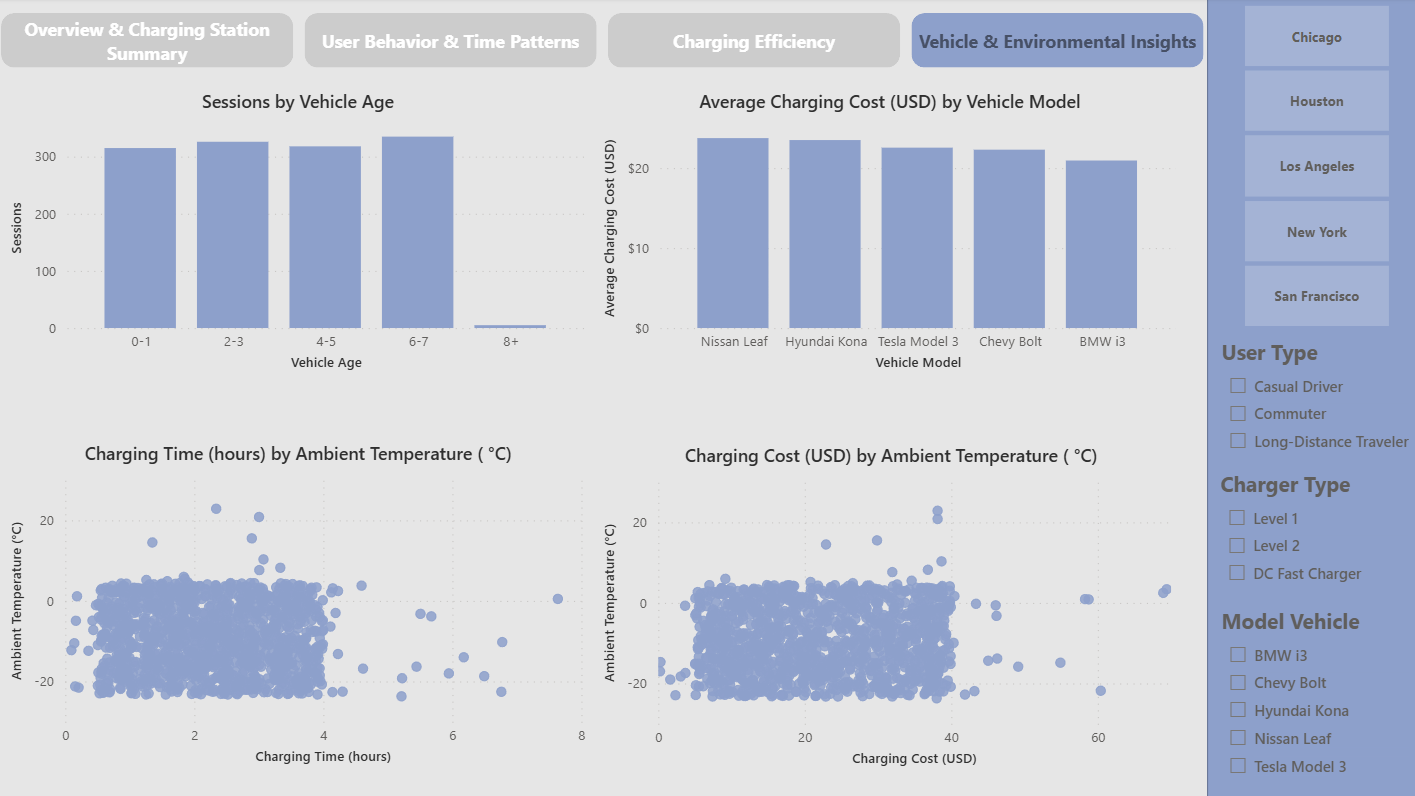

The page's visual inventory and layout, read from the dashboard file:
{"tool":"powerbi","page":{"name":"Vehicle & Environmental Insights","canvas":[1280,720],"ordinal":3},"visuals":[{"type":"shape","box":[1085.4,0,194.3,720],"z":1000},{"type":"slicer","fields":{"Values":["EV Charging.Charging Station Location"]},"box":[1093.4,0,179.1,300.9],"z":2000},{"type":"slicer","title":"Model Vehicle","fields":{"Values":["EV Charging.Vehicle Model"]},"box":[1093.3,546.2,178.4,164.5],"z":3000},{"type":"slicer","title":"User Type","fields":{"Values":["EV Charging.User Type"]},"box":[1093.3,305,178.4,110],"z":4000},{"type":"slicer","title":"Charger Type","fields":{"Values":["EV Charging.Charger Type"]},"box":[1092.5,422.7,178.2,115.5],"z":5000},{"type":"clusteredColumnChart","title":"Sessions by Vehicle Age","fields":{"Y":["Metrics.Sessions Count"],"Category":["EV Charging.Vehicle Age Bins"]},"box":[8.1,81.6,525.3,257.3],"z":6000},{"type":"scatterChart","title":"Charging Time (hours) by Ambient Temperature ( °C)","fields":{"Y":["EV Charging.Temperature (°C)"],"X":["Sum(EV Charging.Charging Duration (hours))"]},"box":[8.1,396.7,525.7,294.6],"z":7000},{"type":"clusteredColumnChart","title":"Average Charging Cost (USD) by Vehicle Model","fields":{"Y":["Metrics.Average Charging Cost (USD)"],"Category":["EV Charging.Vehicle Model"]},"box":[539.6,81.6,523.5,257.3],"z":8000},{"type":"scatterChart","title":"Charging Cost (USD) by Ambient Temperature ( °C)","fields":{"Y":["EV Charging.Temperature (°C)"],"X":["EV Charging.Charging Cost (USD)"]},"box":[540,398.5,525.7,294.6],"z":9000},{"type":"pageNavigator","box":[4.5,13.4,1079.1,49.3],"z":9001}]}

Visuals, with their boxes in screenshot pixels (x1, y1, x2, y2), scaled from the page's 1280x720 canvas onto the 1415x796 screenshot:
shape: 1200, 0, 1414, 795
slicer - EV Charging.Charging Station Location: 1209, 0, 1407, 333
"Model Vehicle" slicer: 1209, 604, 1406, 786
"User Type" slicer: 1209, 337, 1406, 459
"Charger Type" slicer: 1208, 467, 1405, 595
"Sessions by Vehicle Age" clusteredColumnChart: 9, 90, 590, 375
"Charging Time (hours) by Ambient Temperature ( °C)" scatterChart: 9, 439, 590, 764
"Average Charging Cost (USD) by Vehicle Model" clusteredColumnChart: 597, 90, 1175, 375
"Charging Cost (USD) by Ambient Temperature ( °C)" scatterChart: 597, 441, 1178, 766
pageNavigator: 5, 15, 1198, 69
